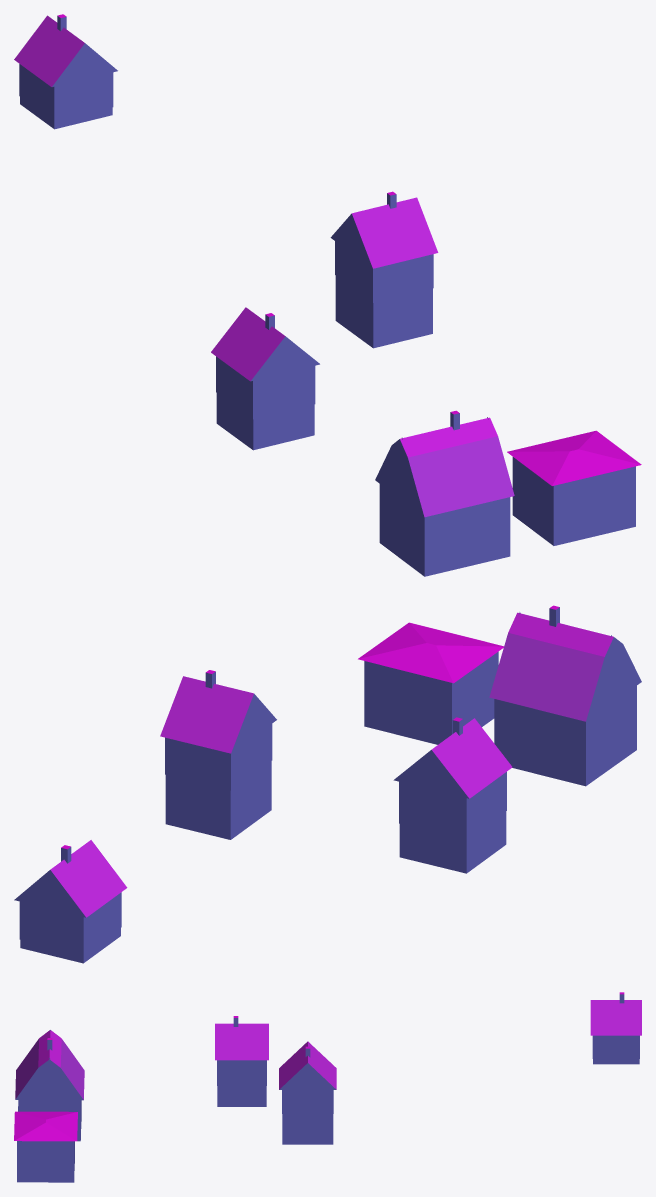
The model's file is buildings_corner.fbx.
The picture shows the model from 3 angles, top to bottom: view 1: azimuth 30°, elevation 25°; view 2: azimuth 150°, elevation 25°; view 3: azimuth 270°, elevation 25°; orthographic projection. The views are drawn at different scales.
Visible parts, largest first — view 1: buildings_corner; view 2: buildings_corner; view 3: buildings_corner.
Boxes of the visible parts, bbox=[...] form: buildings_corner: bbox=[14, 14, 641, 576]; buildings_corner: bbox=[14, 605, 641, 963]; buildings_corner: bbox=[14, 992, 641, 1182].
Size of the model in its own units: 28.21 by 23.79 by 92.43.
